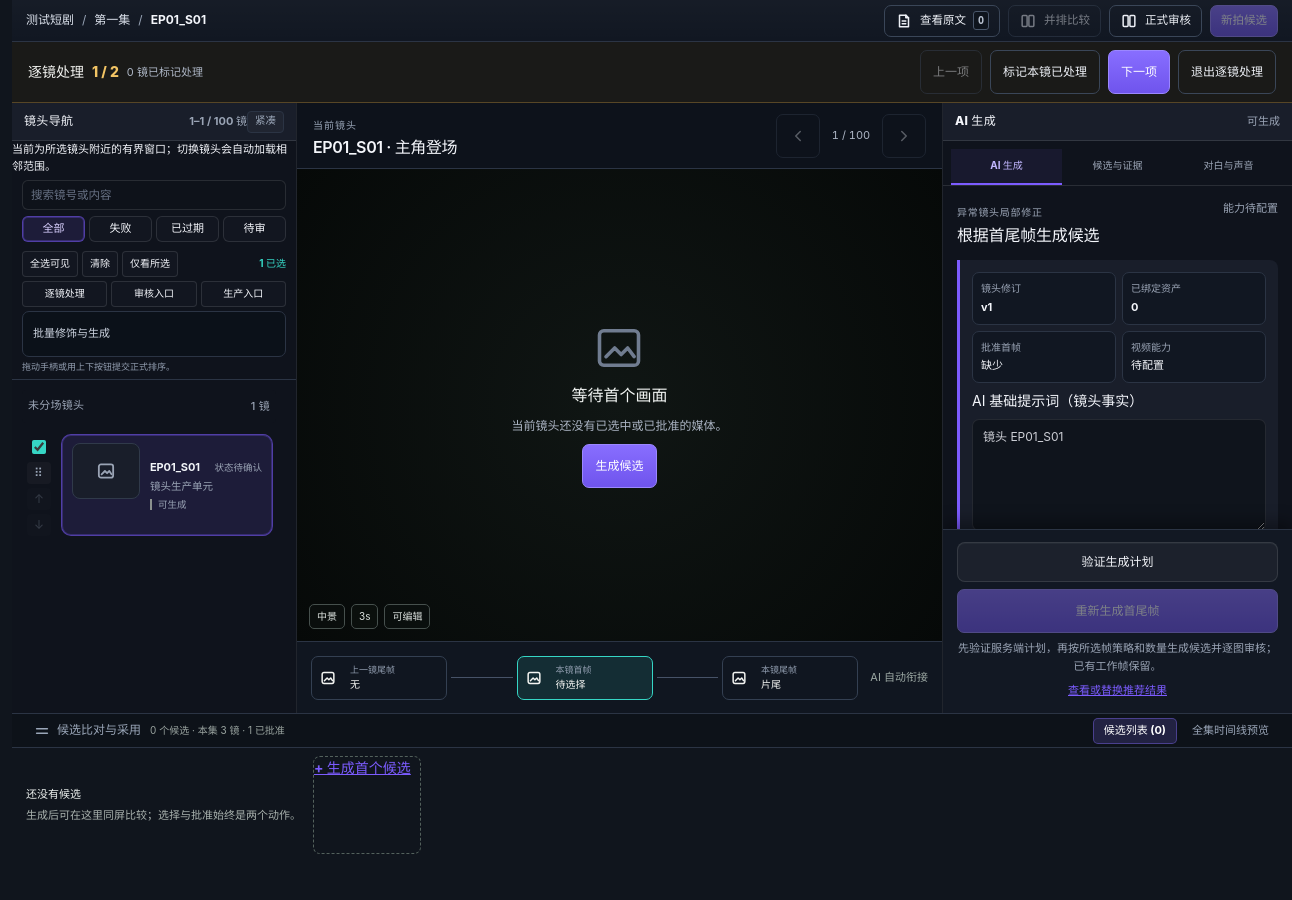
Test: DirectorDeskPage (PR-CUR-002) › keeps confirmed batch members that are outside the bounded navigator window
The width and height of the screenshot is (1292, 900).
Check: the text "1 / 2" is shown, box left=92, top=61, right=119, bottom=83
Click the button "下一项" at (1139, 72), box left=1108, top=50, right=1170, bottom=94
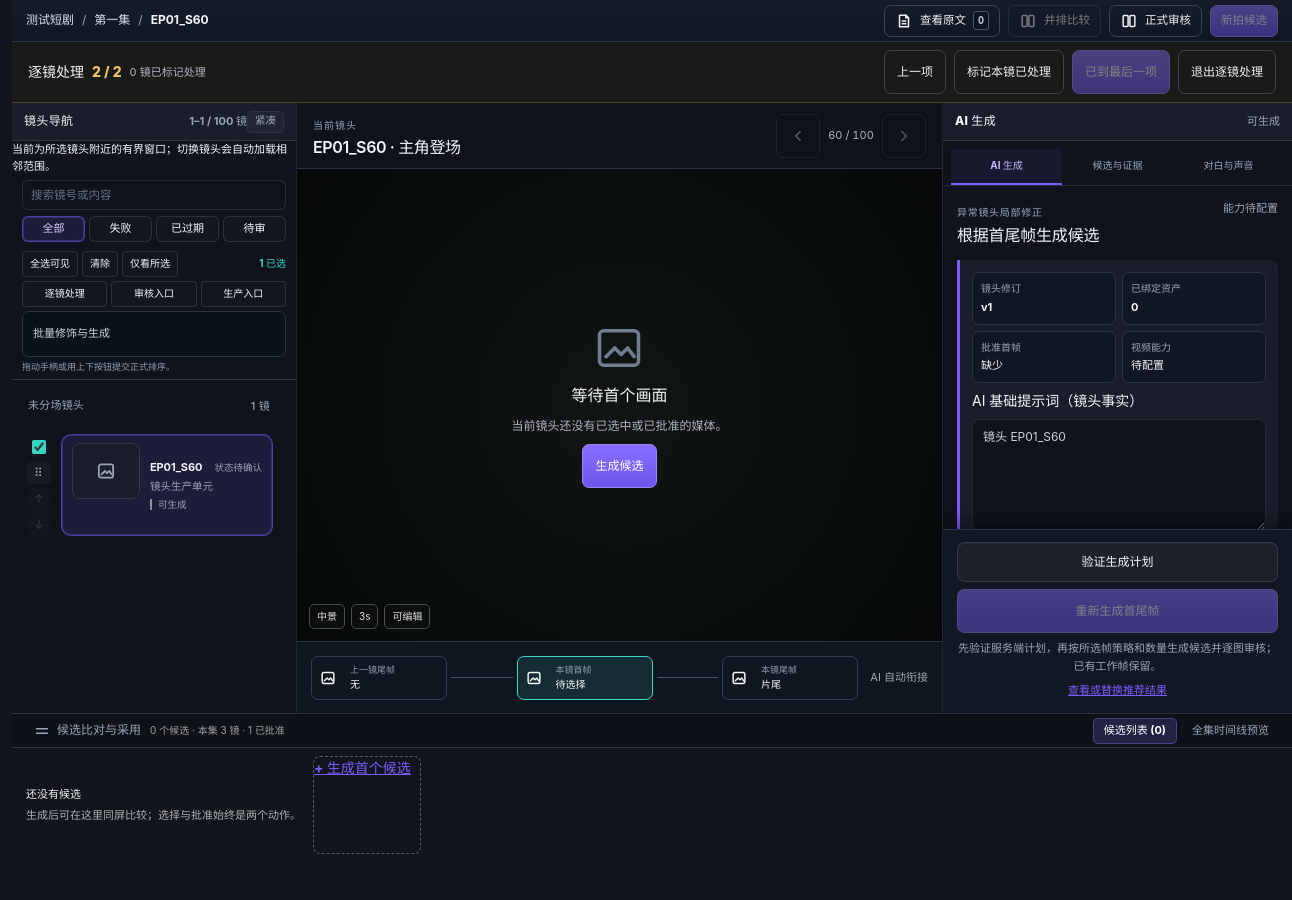
Check: the heading "EP01_S60 · 主角登场" is shown, box left=313, top=137, right=461, bottom=158
Check: the text "2 / 2" is shown, box left=92, top=61, right=122, bottom=83
